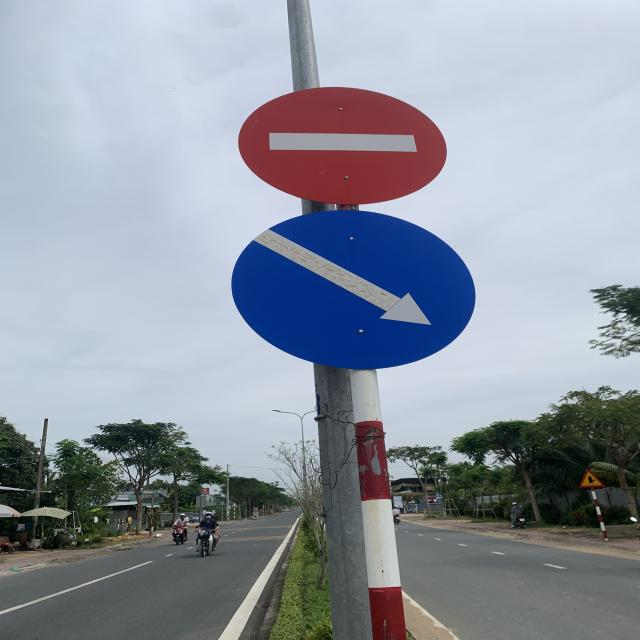Cam_Di_Nguoc_Chieu: (236, 86, 448, 204)
Chi_Huong_Di_Phai: (233, 212, 475, 369)
